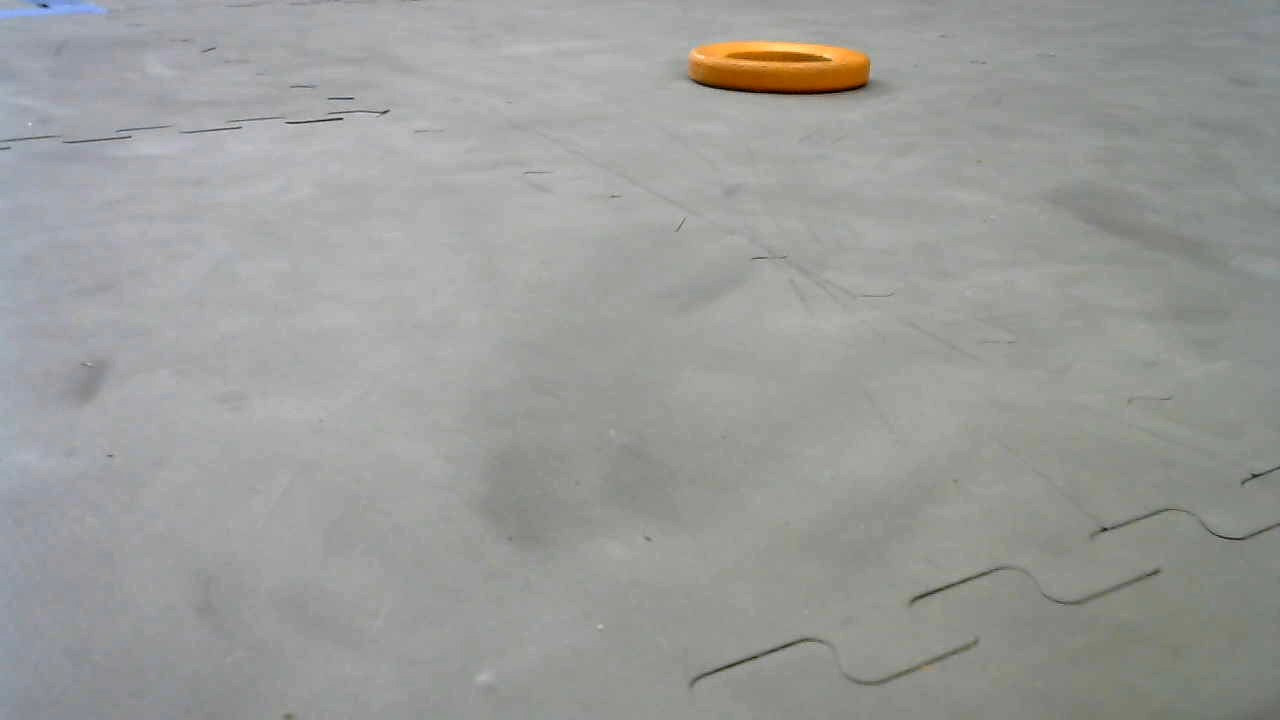OneStack: (688, 44, 871, 95)
